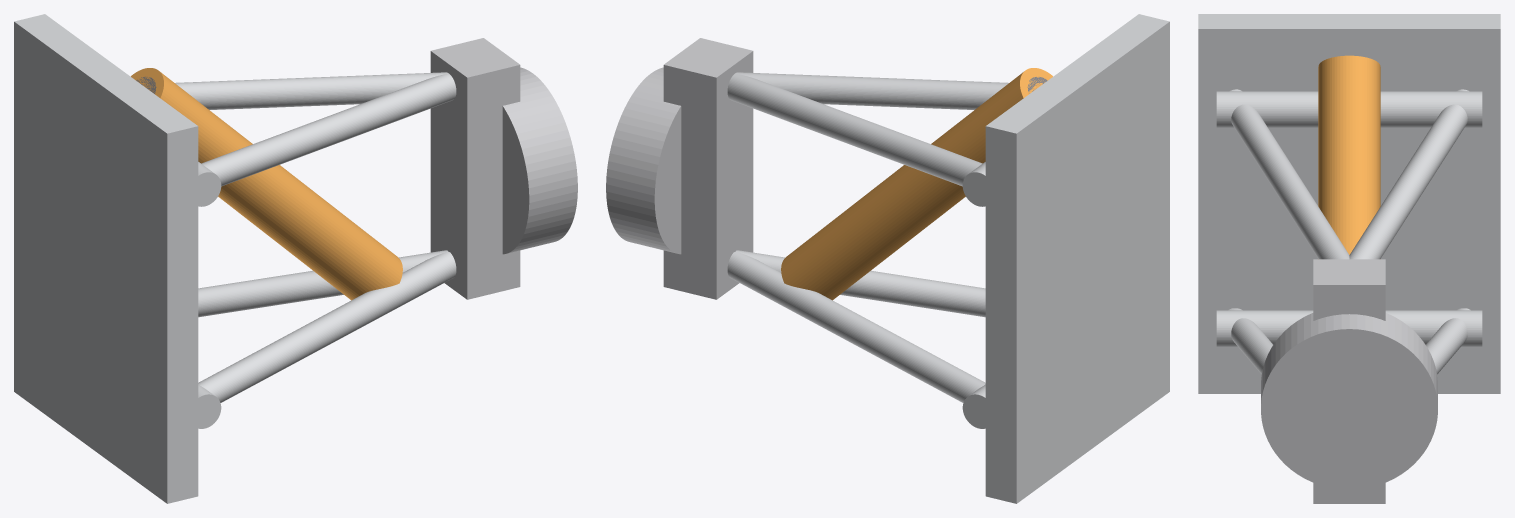
File: rover17_suspension_arm_m.glb
The picture shows the model from 3 angles, left to right: view 1: azimuth 30°, elevation 25°; view 2: azimuth 150°, elevation 25°; view 3: azimuth 270°, elevation 25°; orthographic projection.
Visible parts, largest first — view 1: mount_plate, arm_upright, arm_upper, spring, arm_lower; view 2: mount_plate, arm_upright, arm_upper, spring, arm_lower; view 3: mount_plate, arm_upright, arm_upper, spring, arm_lower.
Boxes of the visible parts, left/top/right/bottom form: mount_plate: left=14, top=14, right=198, bottom=503; arm_upright: left=430, top=38, right=577, bottom=299; arm_upper: left=175, top=72, right=456, bottom=206; spring: left=131, top=68, right=402, bottom=300; arm_lower: left=198, top=250, right=456, bottom=428; mount_plate: left=985, top=14, right=1169, bottom=503; arm_upright: left=606, top=38, right=753, bottom=299; arm_upper: left=727, top=72, right=1008, bottom=206; spring: left=781, top=68, right=1052, bottom=300; arm_lower: left=727, top=250, right=985, bottom=428; mount_plate: left=1198, top=14, right=1500, bottom=393; arm_upright: left=1261, top=259, right=1437, bottom=503; arm_upper: left=1216, top=89, right=1482, bottom=259; spring: left=1318, top=55, right=1380, bottom=254; arm_lower: left=1216, top=308, right=1482, bottom=374.
Size of the model in its own units: 0.5 by 0.4 by 0.3.
